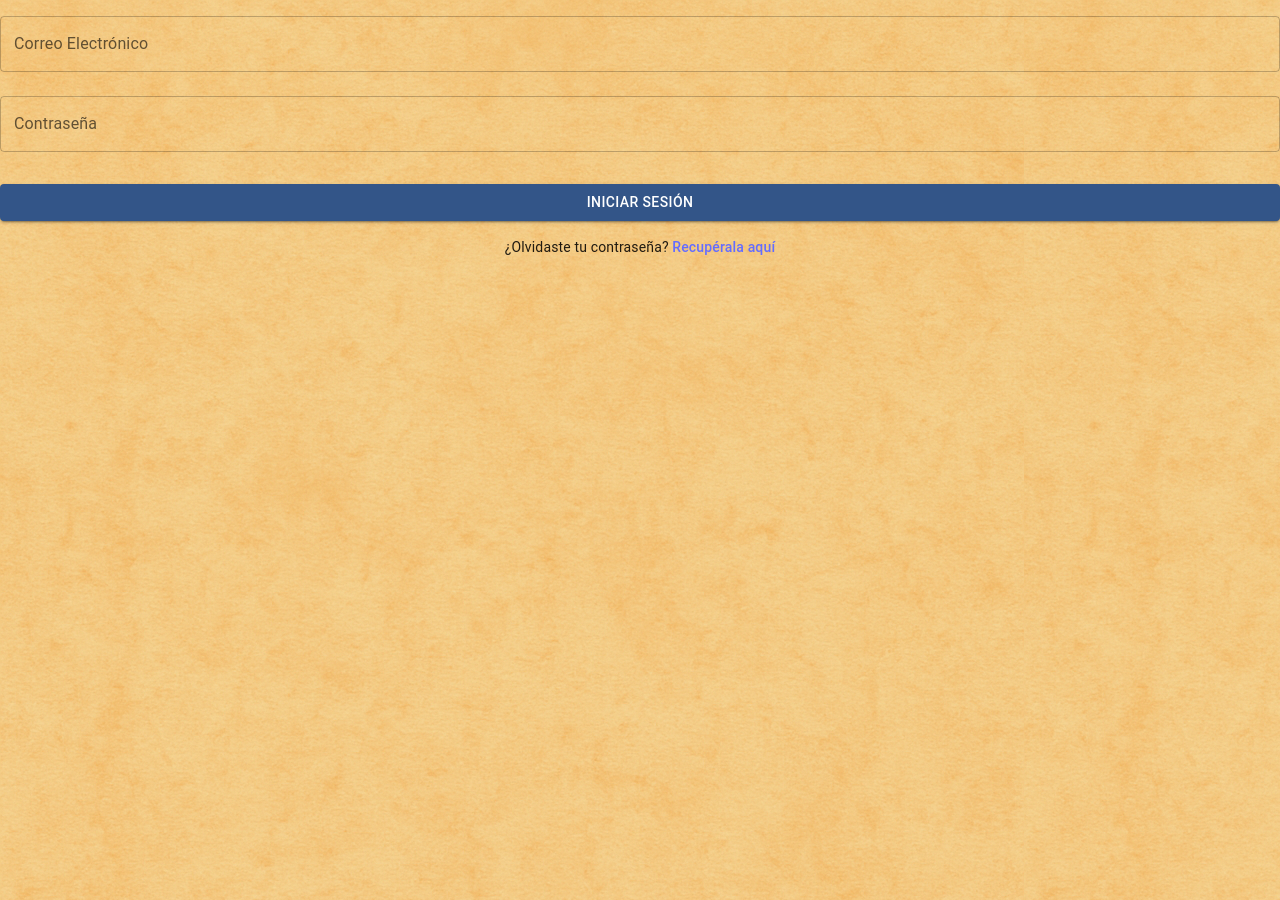
Test: LoginForm › valida campos vacíos y muestra errores
Step 1. Click the button "Iniciar Sesión" → (640, 202), box x1=0 y1=184 x2=1279 y2=220
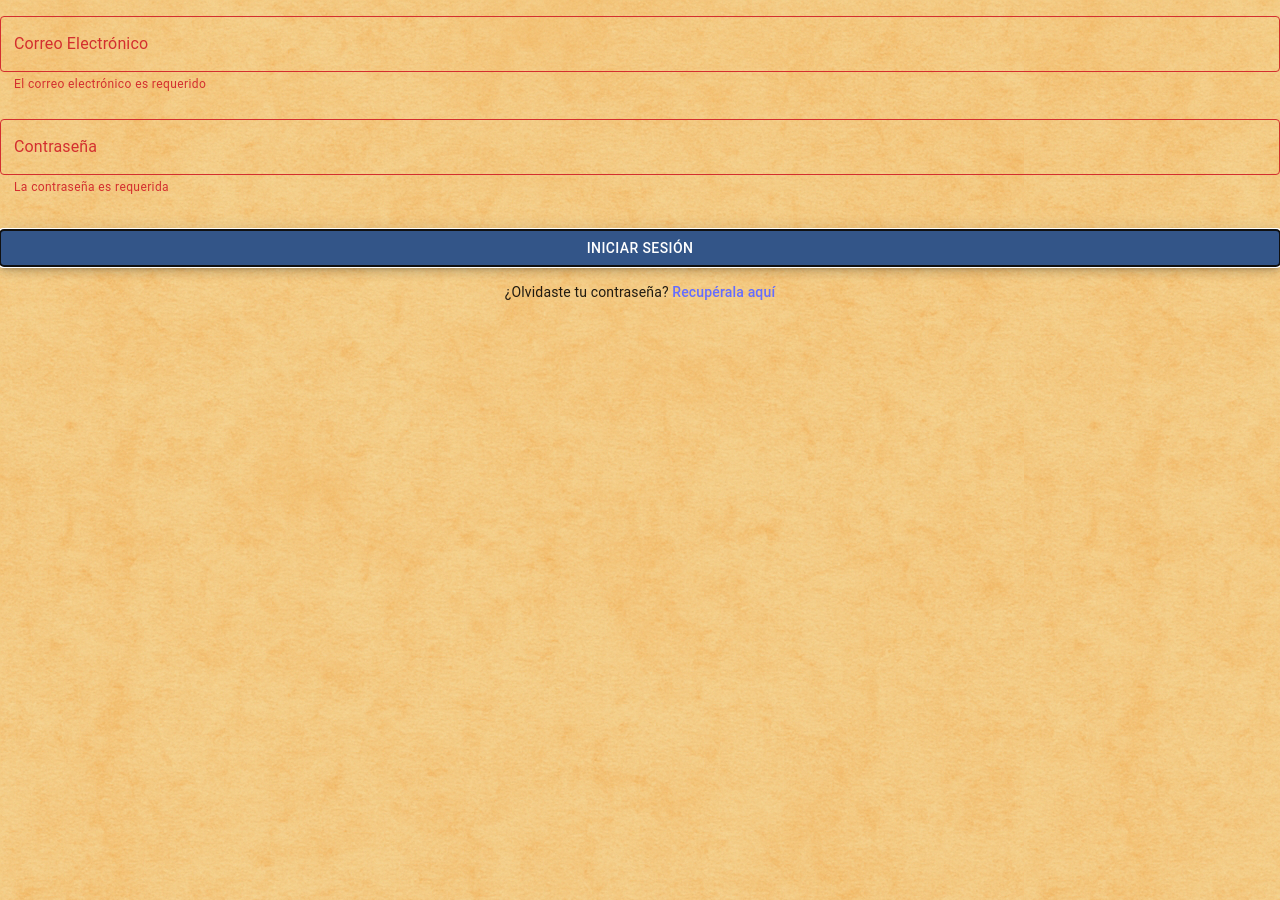
Expected: the text "El correo electrónico es requerido" is shown, x1=14 y1=77 x2=206 y2=91
Expected: the text "La contraseña es requerida" is shown, x1=14 y1=180 x2=169 y2=194
